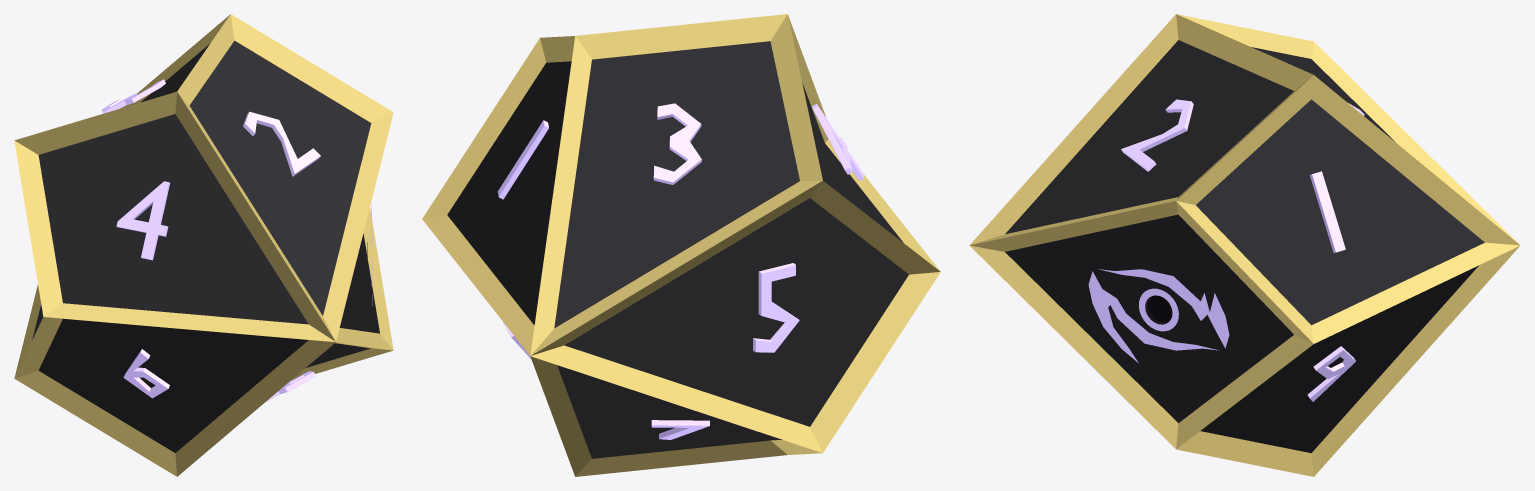
Rendered from d10_black_hole_gold.glb.
3 renders of one model, left to right at view 1: azimuth 30°, elevation 25°; view 2: azimuth 150°, elevation 25°; view 3: azimuth 270°, elevation 25°, orthographic. The views are drawn at different scales.
Visible parts, largest first — view 1: D10_Die; view 2: D10_Die; view 3: D10_Die.
Boxes of the visible parts, x1,y1,x2,y2 form: D10_Die: (14, 14, 393, 476); D10_Die: (422, 14, 940, 476); D10_Die: (969, 14, 1520, 476).
Bounding box in the file's own units: 4.4 × 4.18 × 5.2.
